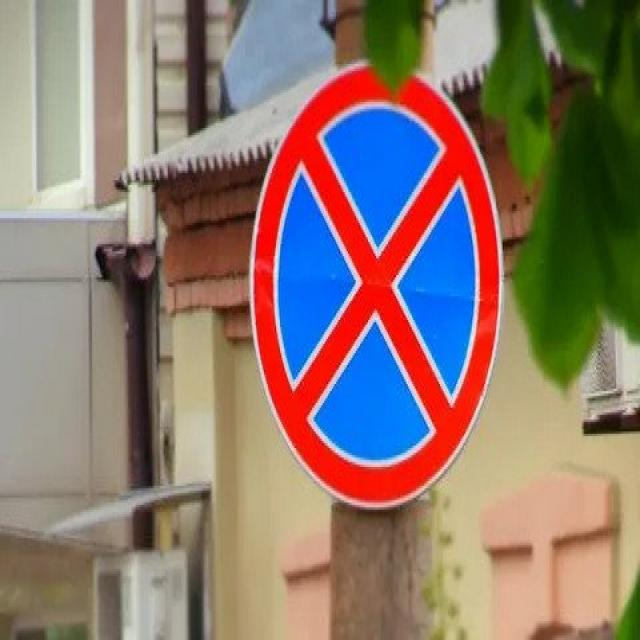no stopping: (245, 50, 507, 516)
